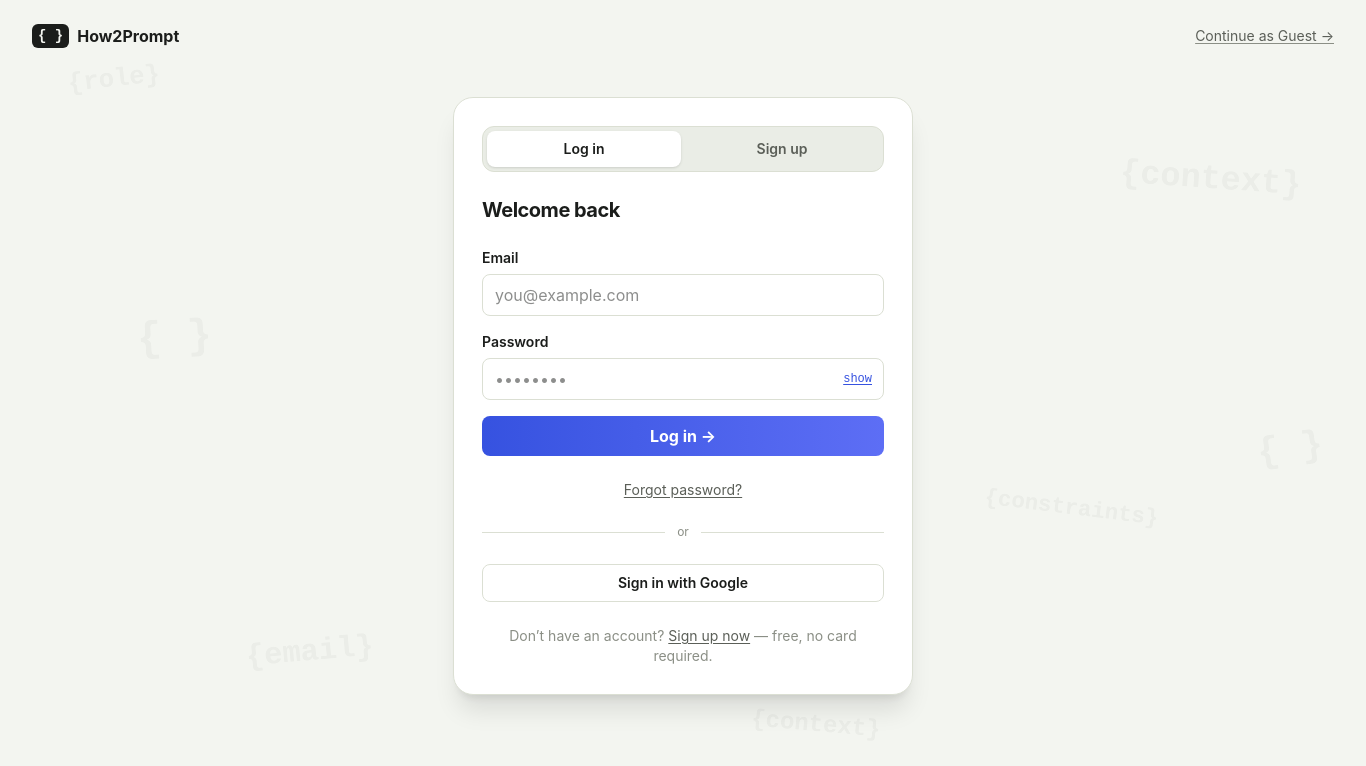
it: LoginPage › resends the verification email using the login form email, then rate-limits a second attempt
The width and height of the screenshot is (1366, 766).
Type "unverified2@example.com" into the field with placeholder "you@example.com".
click(683, 295); type("unverified2@example.com")  # box [482,274,884,316]
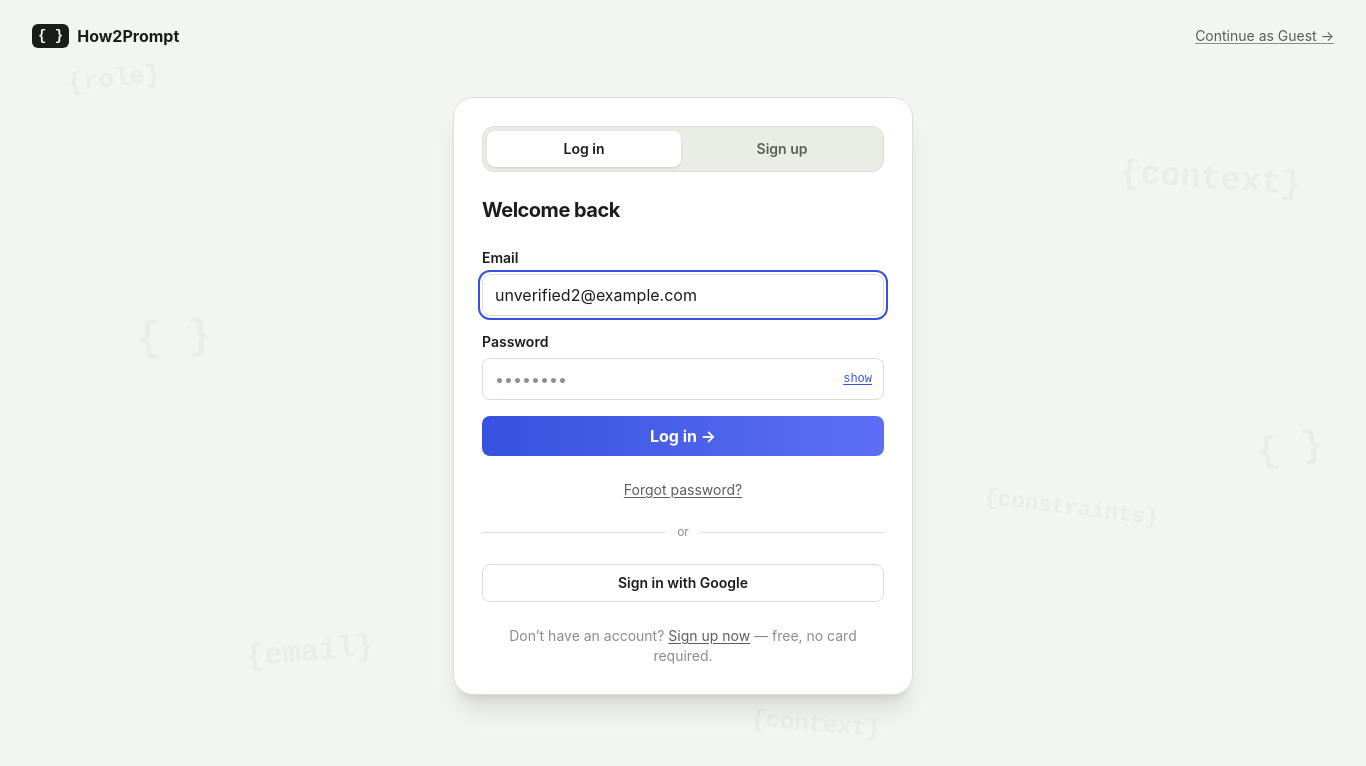
Type "password123" into the password field with placeholder "••••••••".
click(683, 379); type("password123")  # box [482,358,884,400]
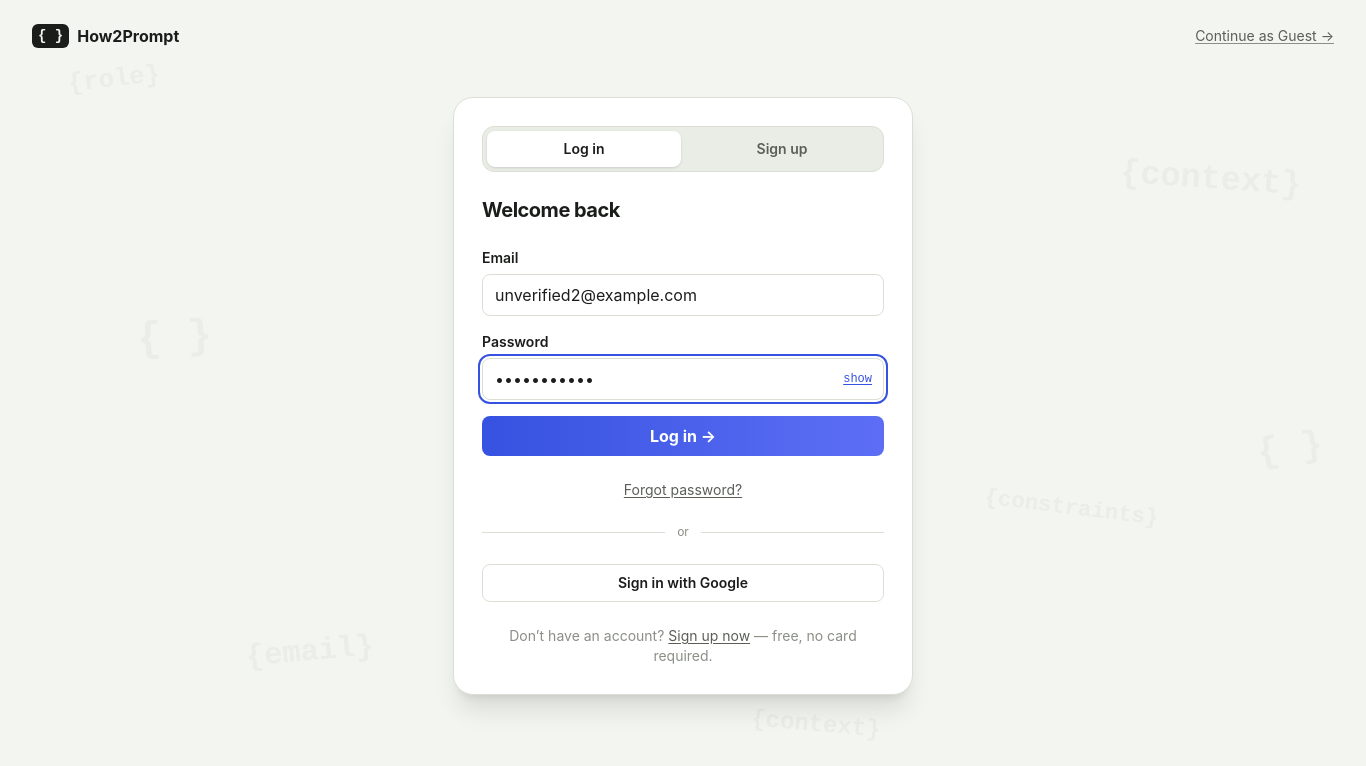
Click the button "Log in →".
click(683, 436)  # box [482,416,884,456]
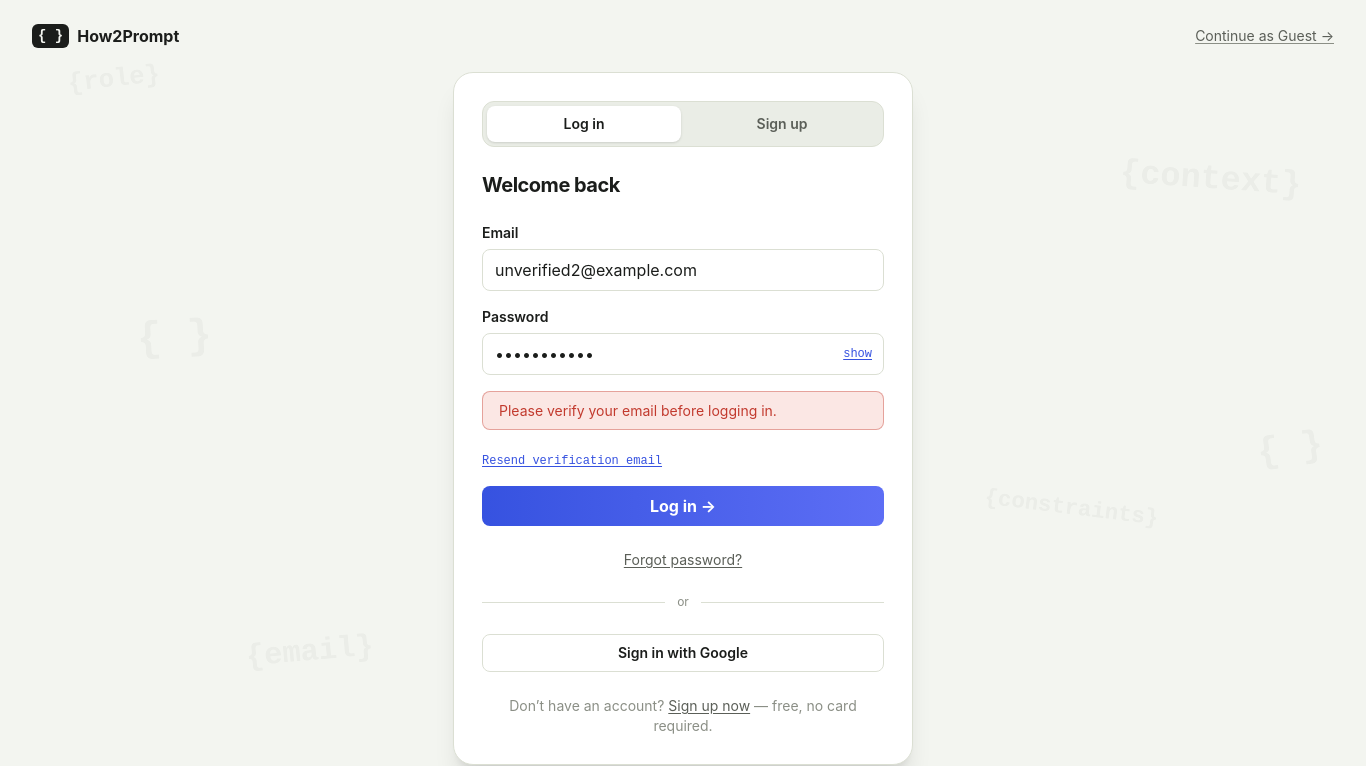
Click the button "Resend verification email".
click(572, 461)  # box [482,453,662,469]
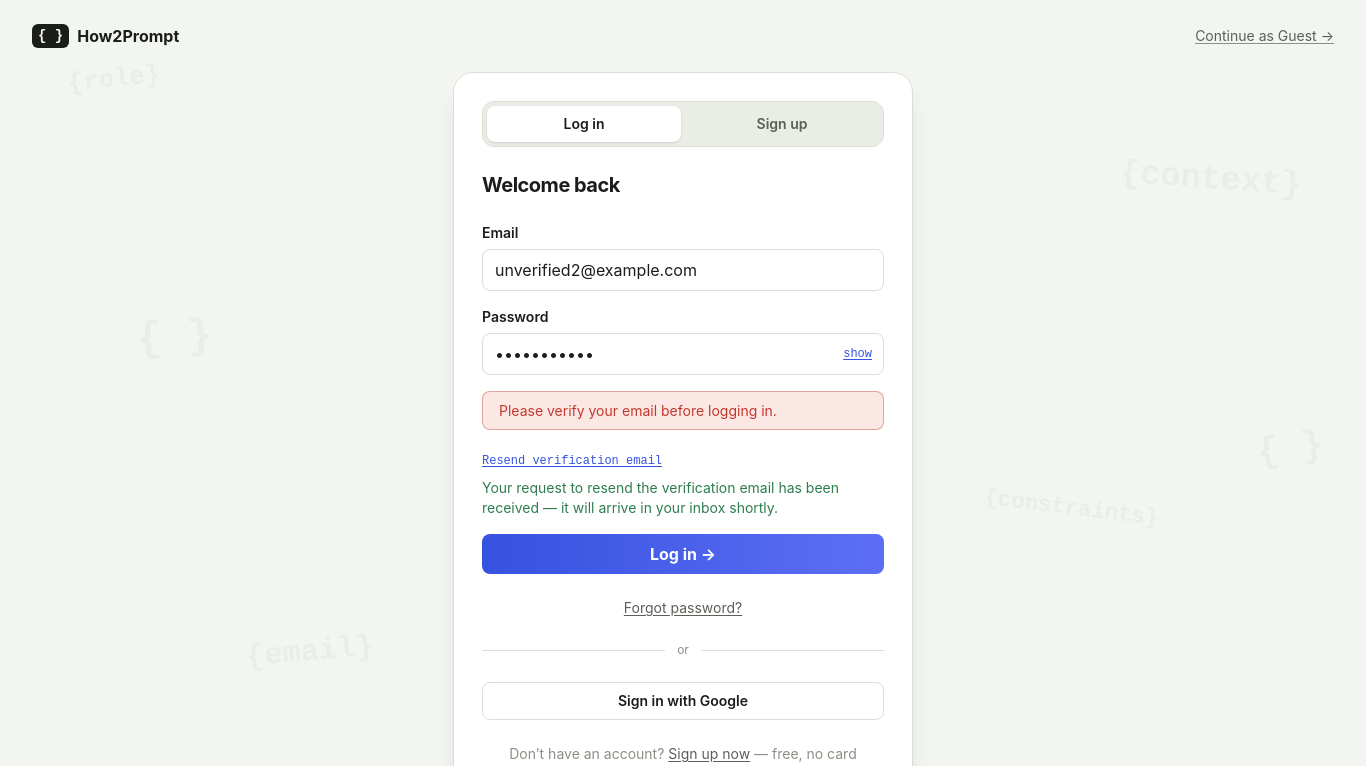
Check: the 2nd message shows "Your request to resend the verification email has been received", box [482,479,839,516]
Click the button "Resend verification email".
click(572, 461)  # box [482,453,662,469]
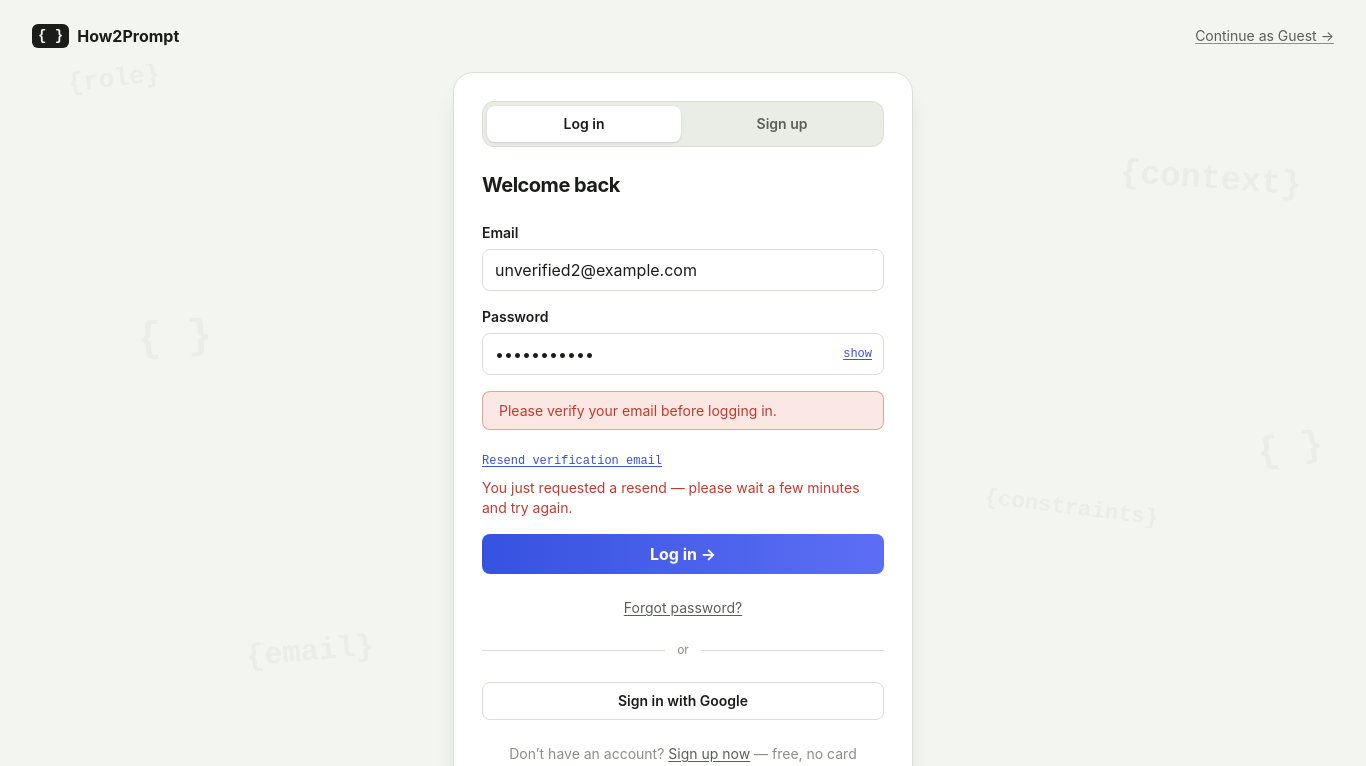
Check: the text "You just requested a resend — please wait a few minutes and try again." is shown, box [482,478,884,518]
